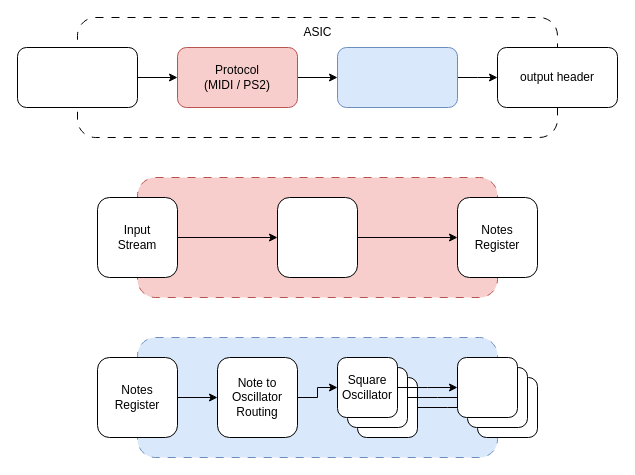
The diagram is 635 pixels wide and 475 high, and some of its shapes have lost their labels. Each missing label, with the centre of its shape:
input header: the point at 77,77
Note Decoding: the point at 317,237
oscillator stack: the point at 397,77
Output Pin: the point at 487,387
